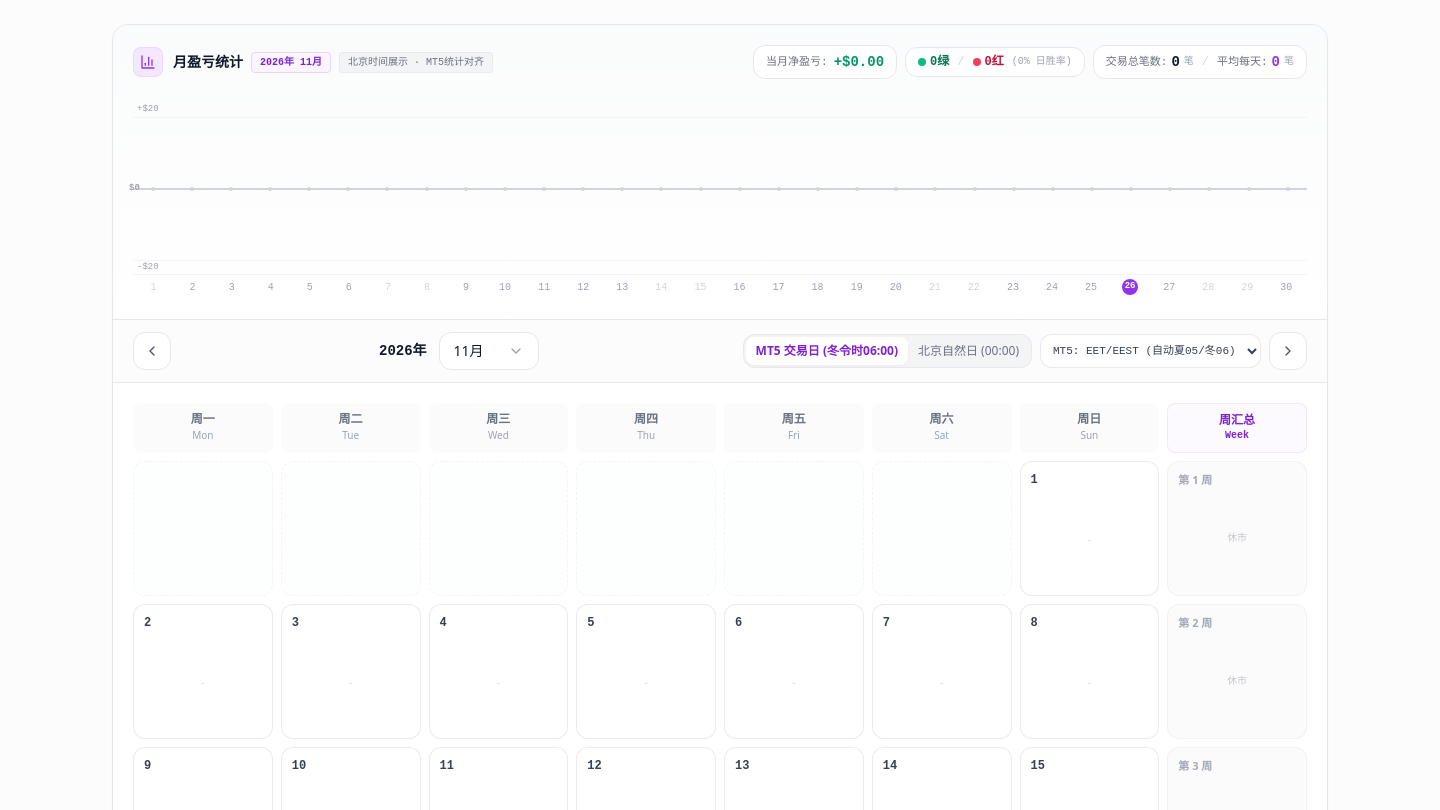
Test: StatsPage (Trading Calendar) › renders modern Select component for month and removed year dropdown
Click the button named "选择月份" at (489, 351), box 439,332 -> 539,370
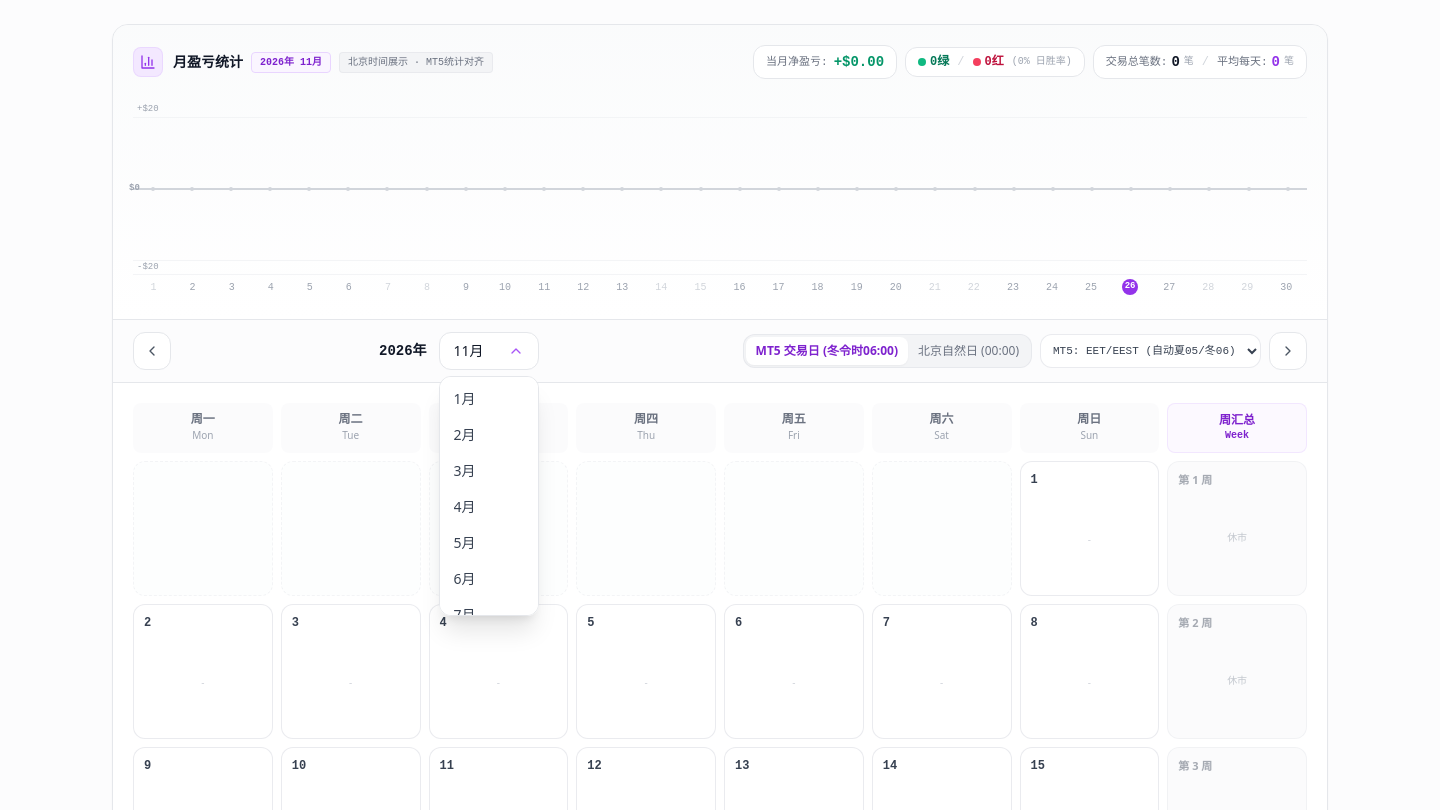
Result: the button "5月" is shown
Click the button "5月" at (489, 543), box 440,525 -> 538,561
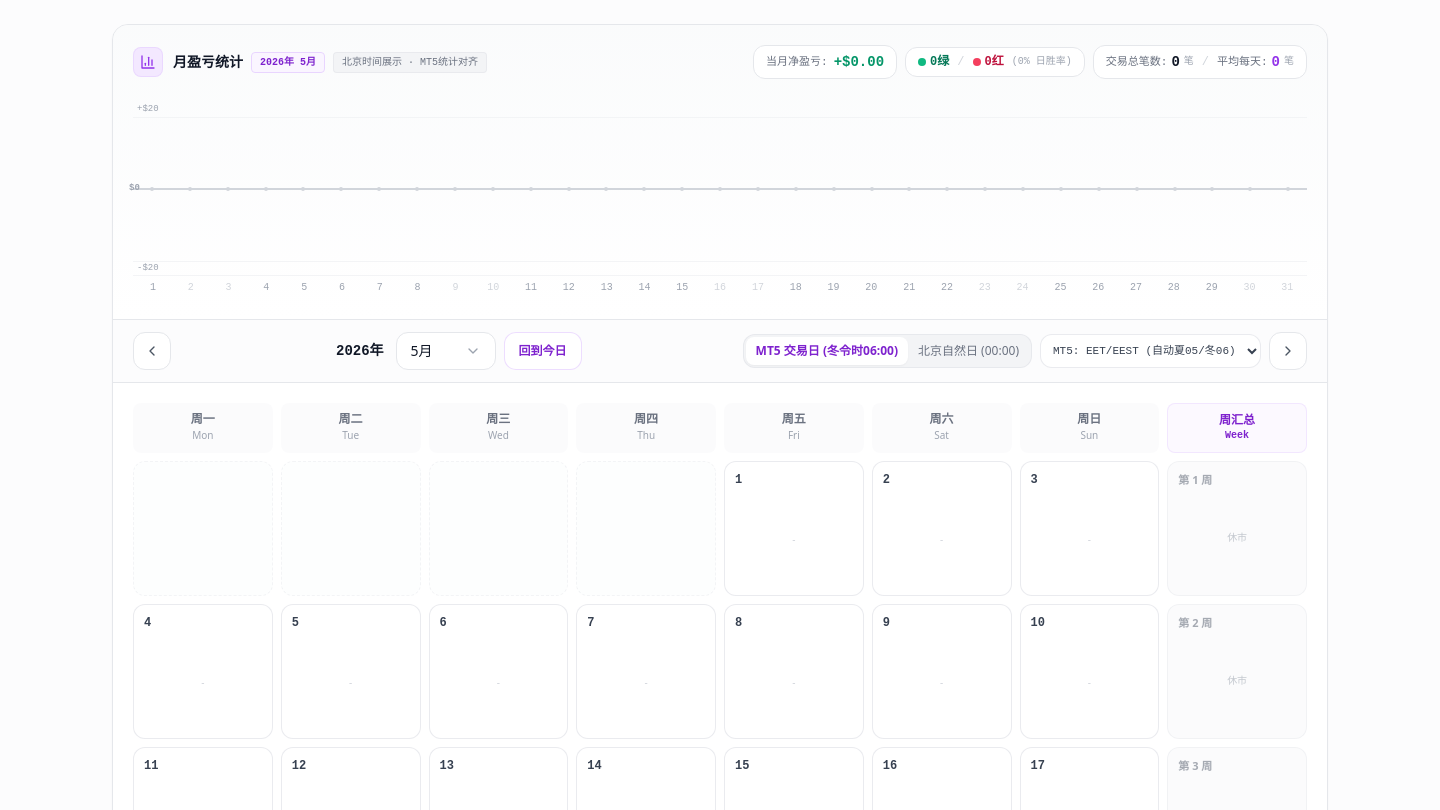
Result: the button named "选择月份" reads "5月" at 396,332 -> 496,370
